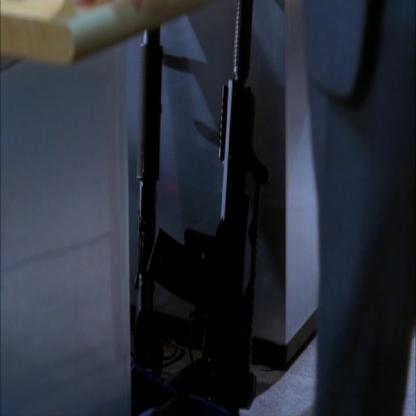Gun: (135, 0, 259, 415)
